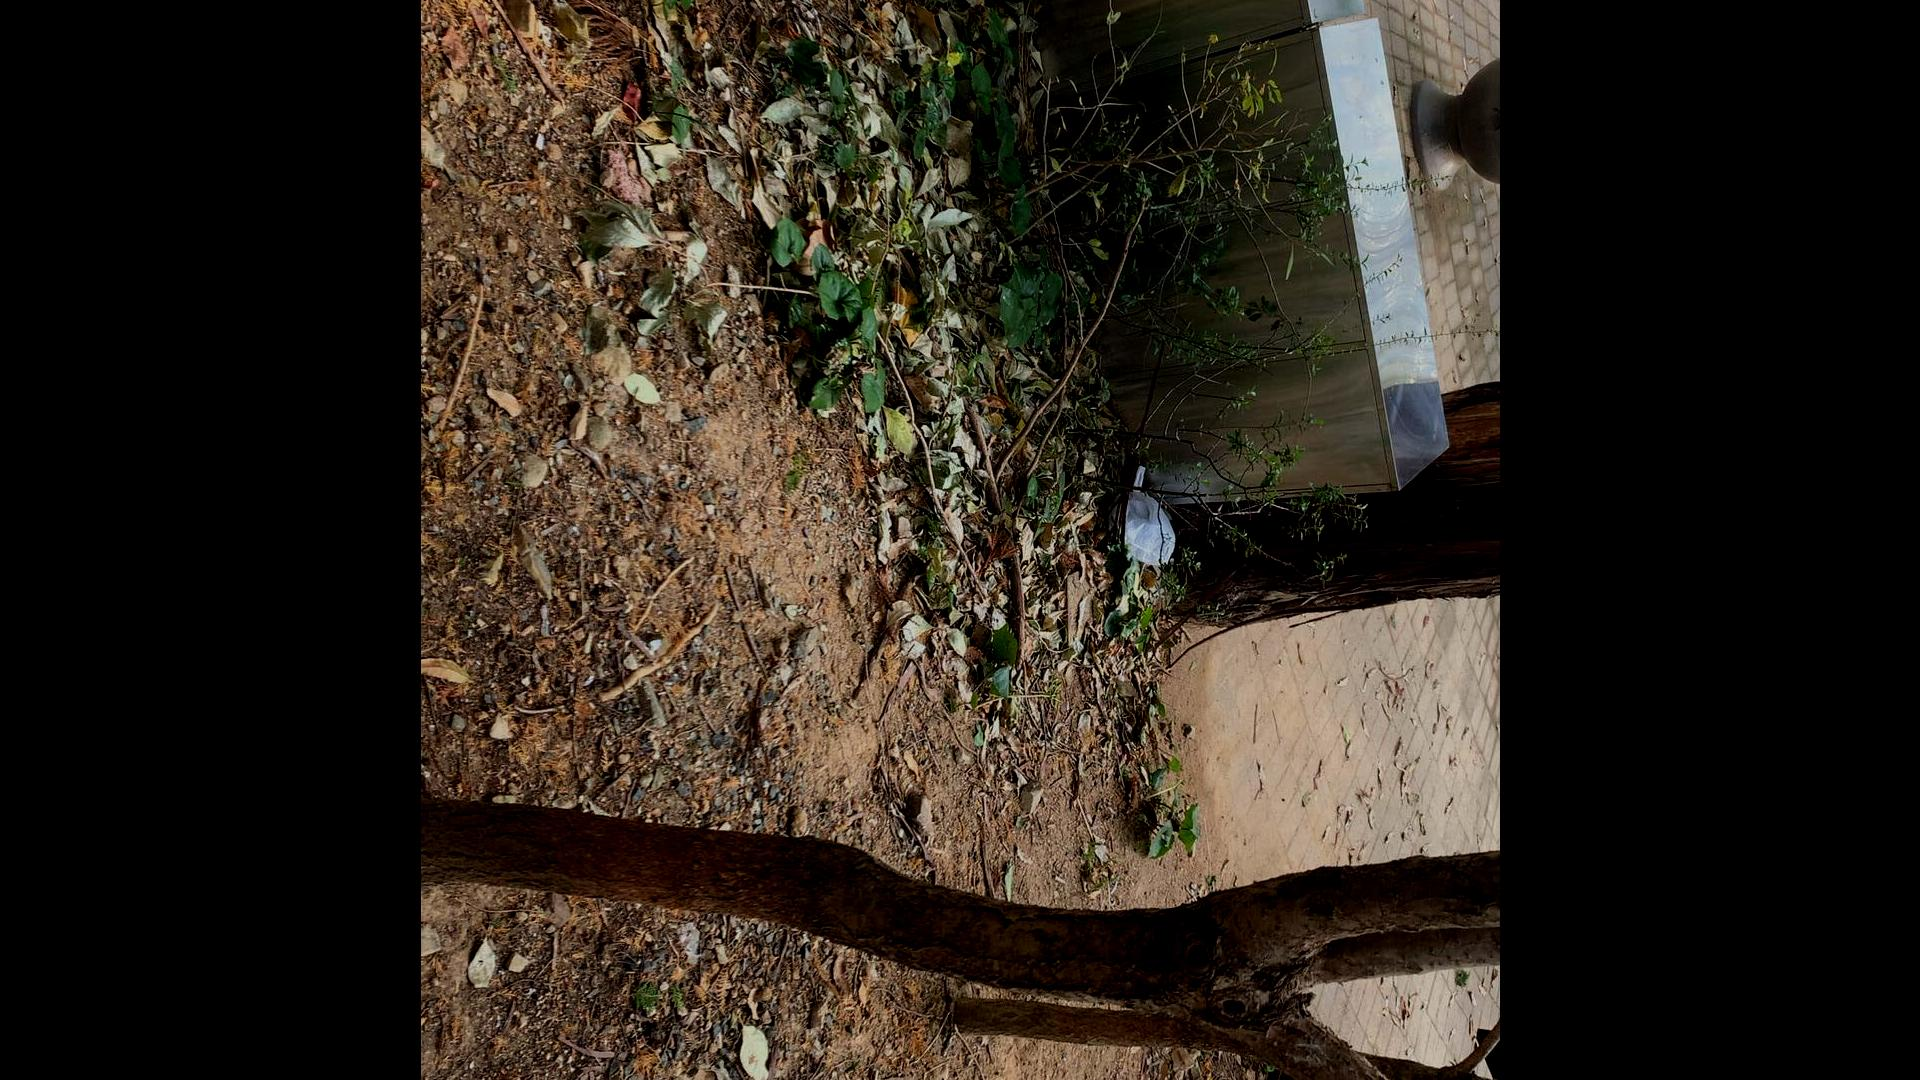white_bag: (1107, 463, 1176, 574)
